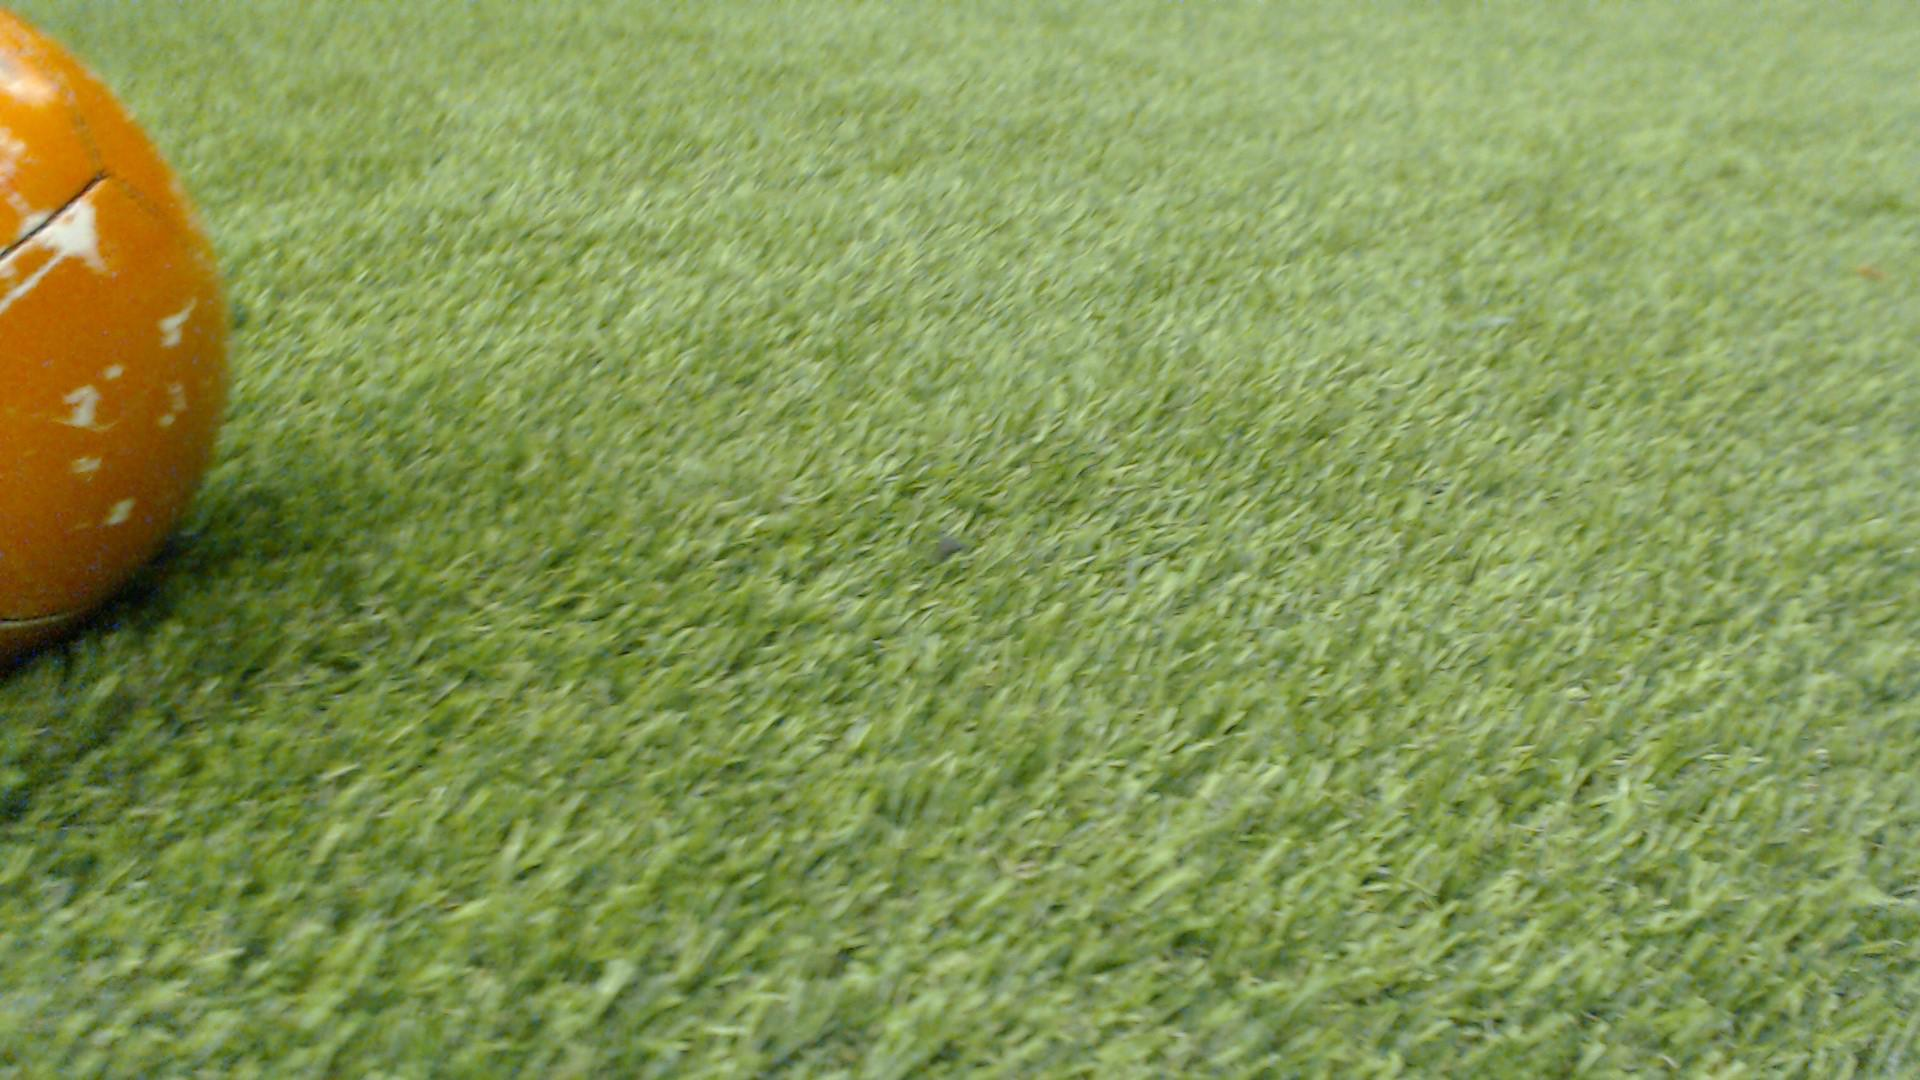bola: (0, 0, 258, 717)
